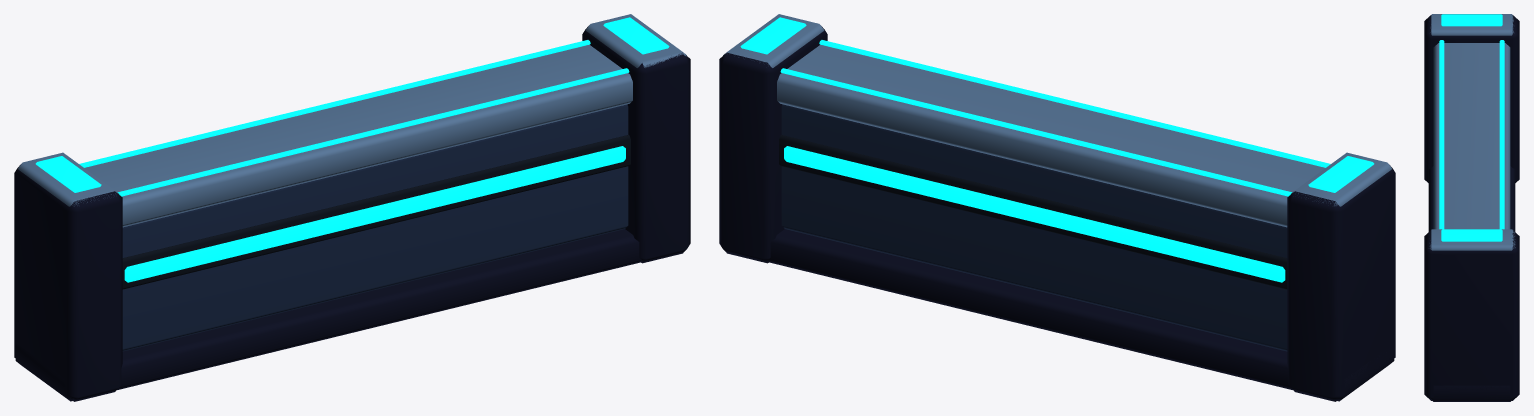
The model's file is NT_Wall_Long_Cyan.fbx.
3 views of the same model, side by side, from view 1: azimuth 30°, elevation 25°; view 2: azimuth 150°, elevation 25°; view 3: azimuth 270°, elevation 25° (orthographic). The views are drawn at different scales.
Parts seen in each view (by area): view 1: NT_Wall_Long_Cyan__WallMesh; view 2: NT_Wall_Long_Cyan__WallMesh; view 3: NT_Wall_Long_Cyan__WallMesh.
Part boxes in pixels (x1,y1,x2,y2): NT_Wall_Long_Cyan__WallMesh: (14, 14, 690, 401); NT_Wall_Long_Cyan__WallMesh: (719, 14, 1395, 401); NT_Wall_Long_Cyan__WallMesh: (1424, 14, 1519, 401).
Bounding box in the file's own units: 4 × 1.26 × 0.68.
